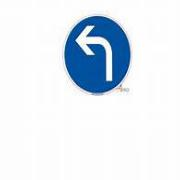left: (63, 14, 130, 95)
